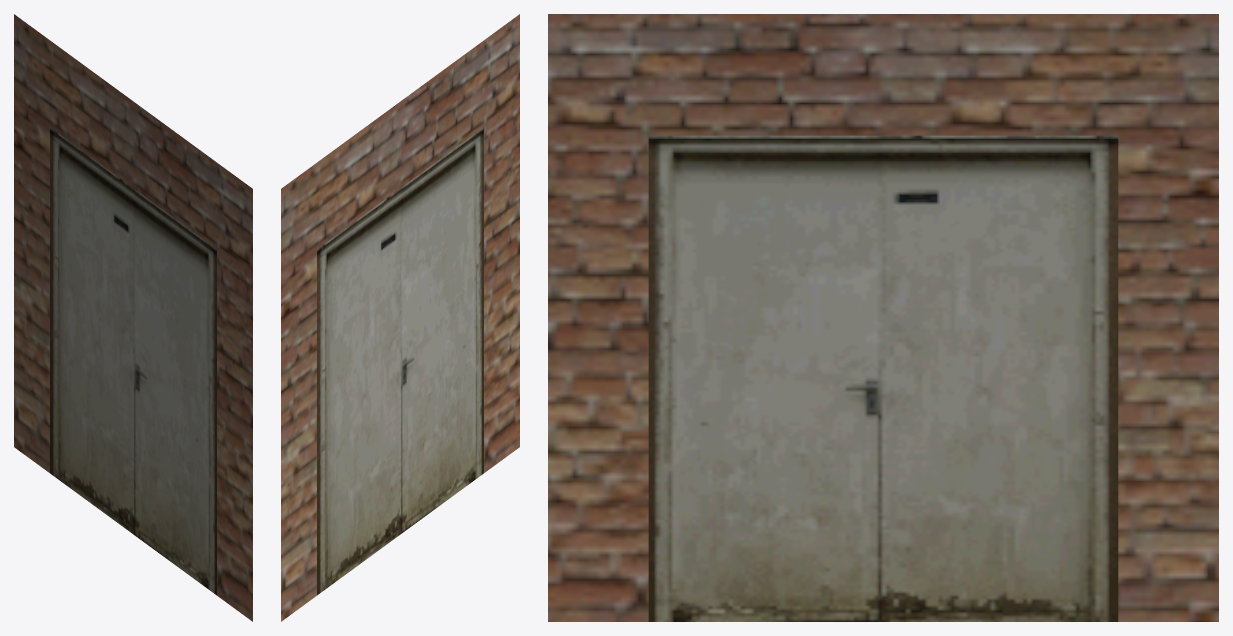
The model's file is Urban_BrickWallOldDoor_Model.fbx.
3 renders of one model, left to right at view 1: azimuth 30°, elevation 25°; view 2: azimuth 150°, elevation 25°; view 3: azimuth 270°, elevation 25°, orthographic. The views are drawn at different scales.
Visible parts, largest first — view 1: Urban_BrickWallOldDoor_Mesh; view 2: Urban_BrickWallOldDoor_Mesh; view 3: Urban_BrickWallOldDoor_Mesh.
Boxes of the visible parts, x1=… form: Urban_BrickWallOldDoor_Mesh: x1=14, y1=14, x2=252, y2=621; Urban_BrickWallOldDoor_Mesh: x1=281, y1=14, x2=519, y2=621; Urban_BrickWallOldDoor_Mesh: x1=548, y1=14, x2=1218, y2=621.
Bounding box in the file's own units: 0 × 2.1 × 2.1.
